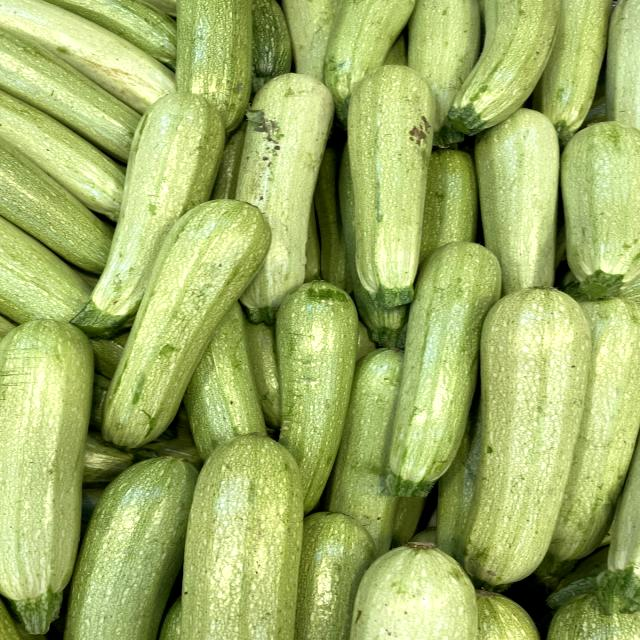zucchini: (86, 190, 290, 457), (448, 277, 601, 591), (371, 224, 516, 505), (340, 56, 445, 316)
